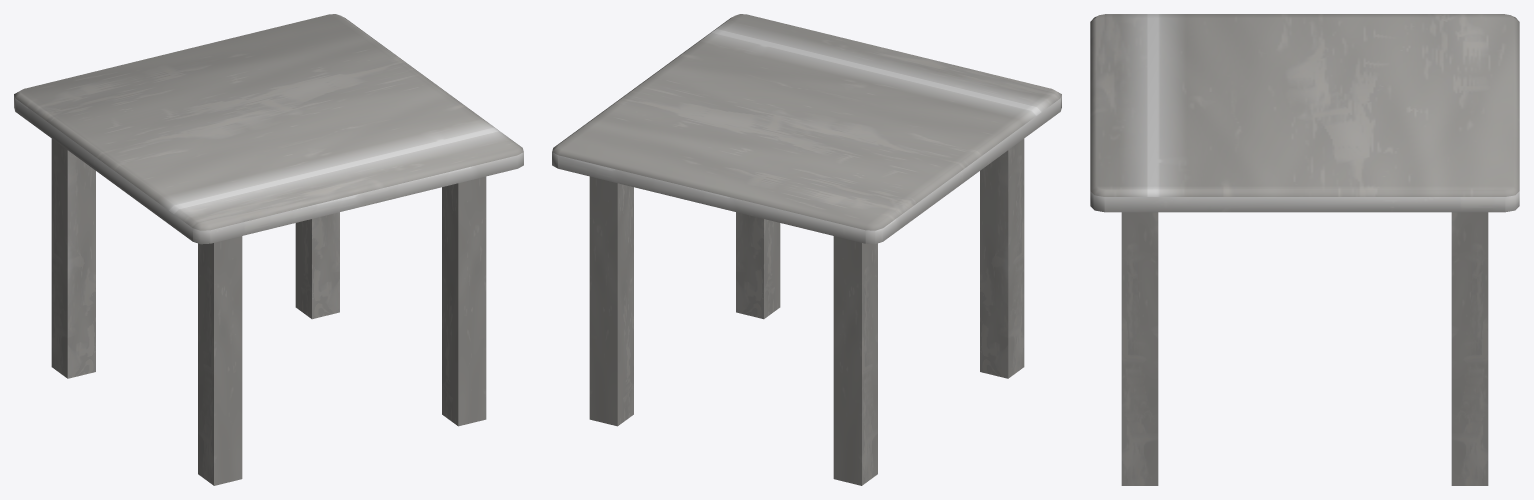
File: table.fbx
3 views of the same model, side by side, from view 1: azimuth 30°, elevation 25°; view 2: azimuth 150°, elevation 25°; view 3: azimuth 270°, elevation 25° (orthographic). The views are drawn at different scales.
Visible parts, largest first — view 1: Plane; view 2: Plane; view 3: Plane.
Boxes of the visible parts, <box> form: Plane: <box>14,14,523,485</box>; Plane: <box>552,14,1061,485</box>; Plane: <box>1090,14,1519,485</box>.
Size of the model in its own units: 200 by 159 by 200.
